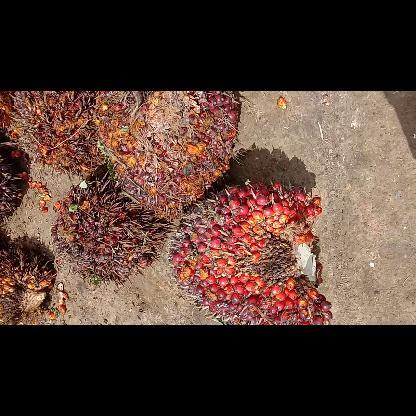TBS masak: (168, 181, 332, 324), (96, 90, 238, 218), (53, 180, 163, 284), (8, 91, 104, 175)
